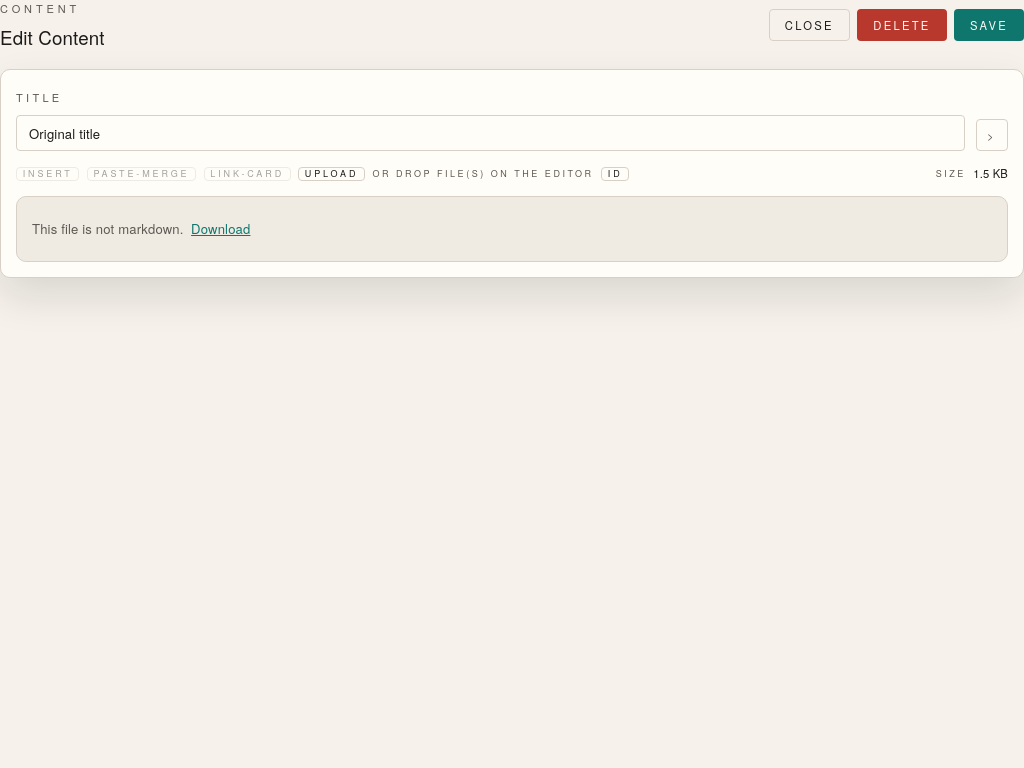
Scenario: ContentEditorView › keeps the editor open when modal cancel is selected
Replace the text in the field labelled "Title" with "Updated title": (490, 133) [16,115,965,151]
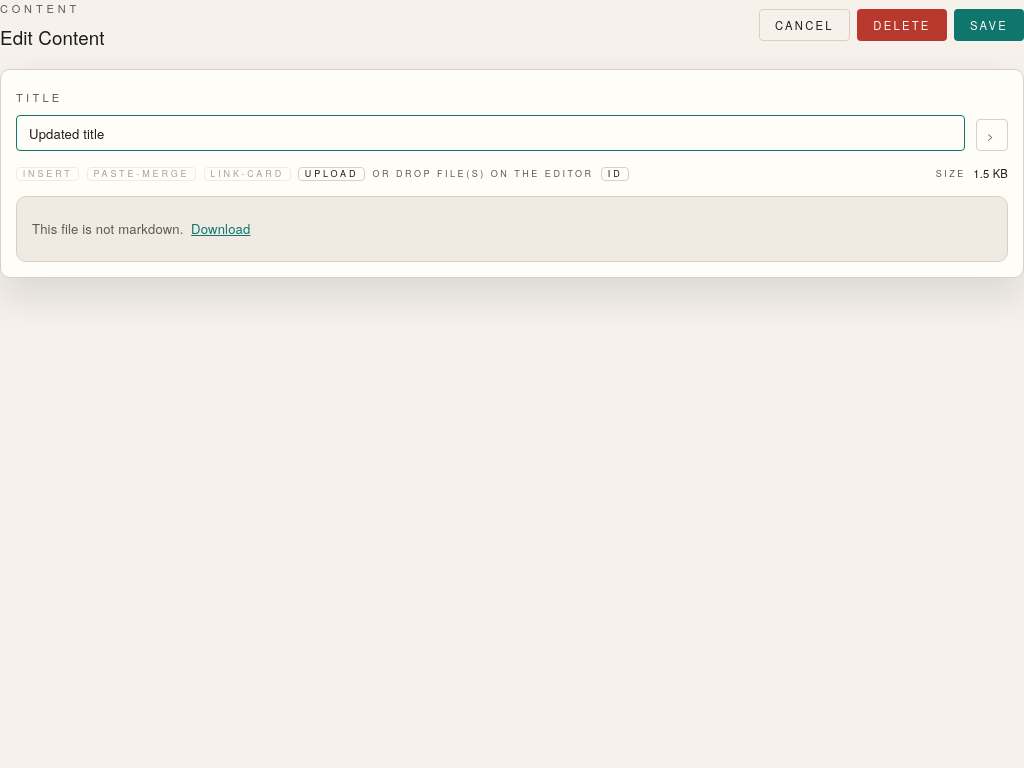
Click the button "Cancel": (804, 25) [759,9,850,41]
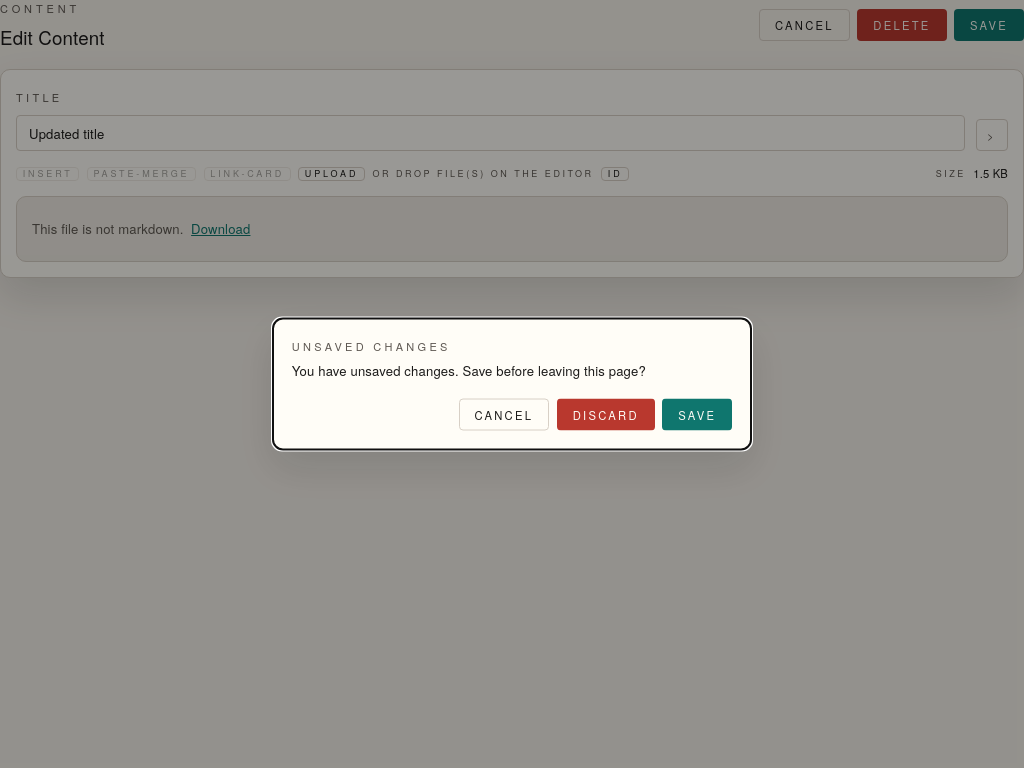
Click the button "Cancel": (504, 415) [458,399,549,431]
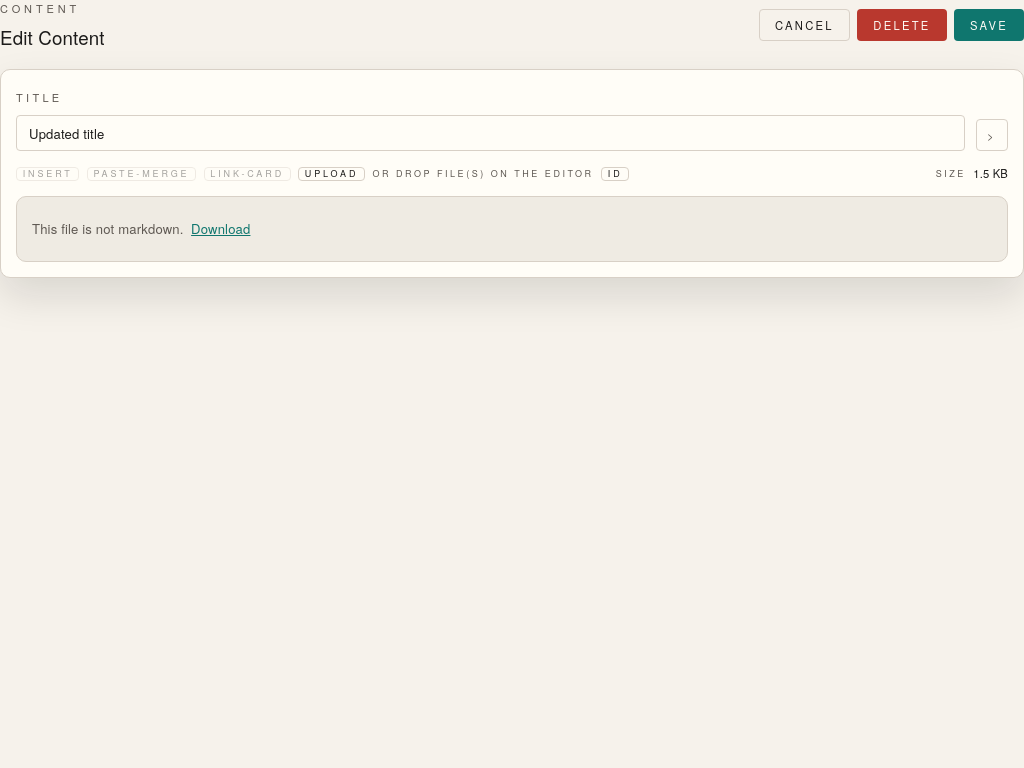
Check: the text "Unsaved changes" is gone
